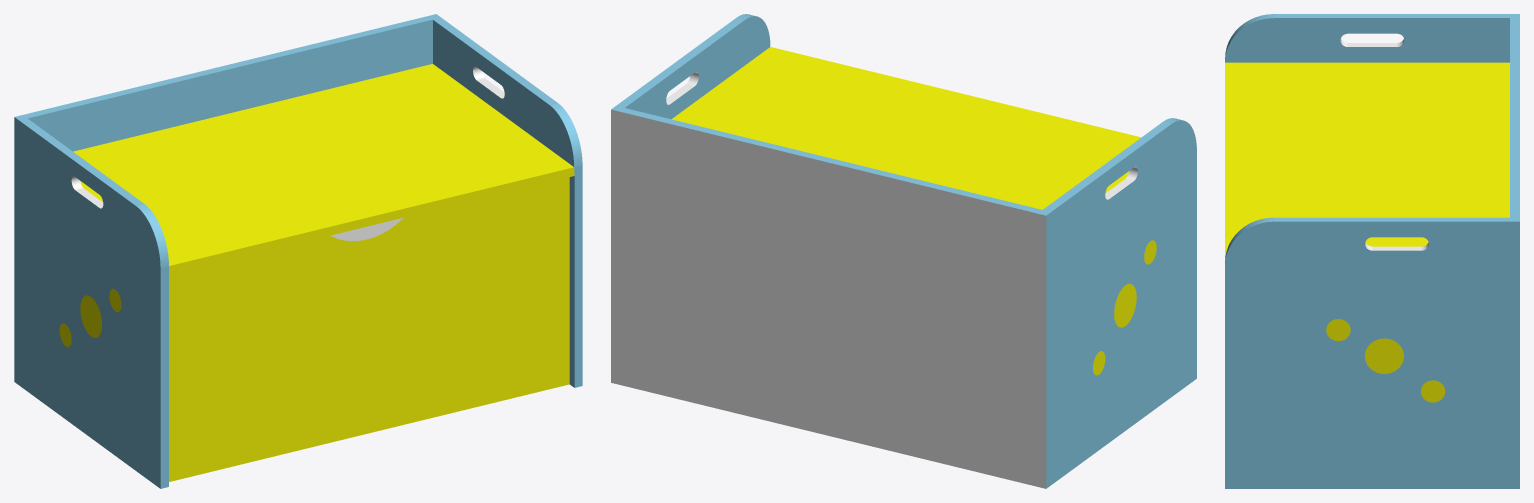
3 renders of one model, left to right at view 1: azimuth 30°, elevation 25°; view 2: azimuth 150°, elevation 25°; view 3: azimuth 270°, elevation 25°, orthographic. The views are drawn at different scales.
Visible parts, largest first — view 1: Layer0_001; view 2: Layer0_001; view 3: Layer0_001.
Part boxes in pixels (x1,y1,x2,y2): Layer0_001: [14, 14, 582, 488]; Layer0_001: [611, 14, 1196, 488]; Layer0_001: [1225, 14, 1519, 488].
Size of the model in its own units: 39.37 by 23.62 by 23.62.
